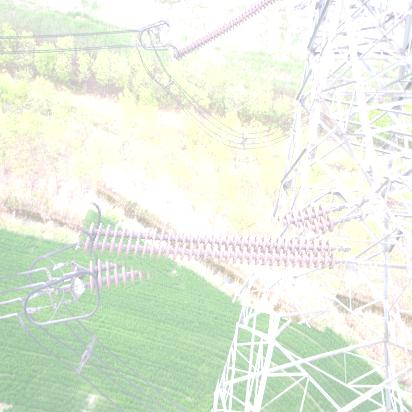insulator: (80, 184, 350, 314), (163, 1, 296, 52)
